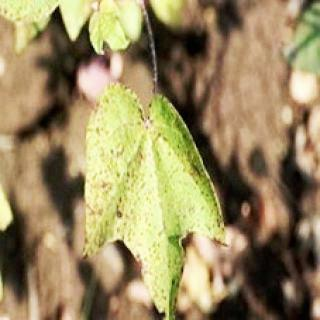leaf spot: (84, 82, 230, 320)
